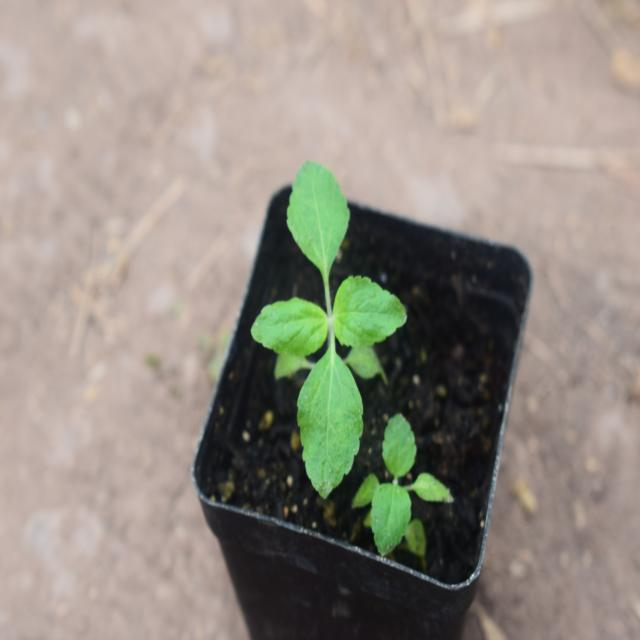billygoat_weed: (251, 166, 399, 486), (364, 405, 446, 556)
